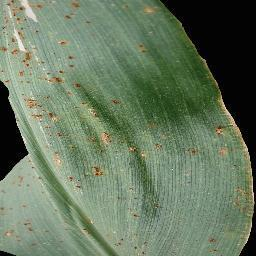Corn_Common_Rust: (1, 67, 150, 163), (0, 155, 65, 256), (198, 166, 256, 256), (184, 39, 239, 107), (213, 93, 256, 173), (2, 0, 50, 68), (104, 194, 156, 256), (49, 32, 92, 84), (116, 3, 178, 39), (61, 156, 115, 191), (51, 0, 105, 30), (137, 33, 167, 65), (74, 214, 101, 243), (154, 130, 176, 159), (183, 143, 210, 166)
